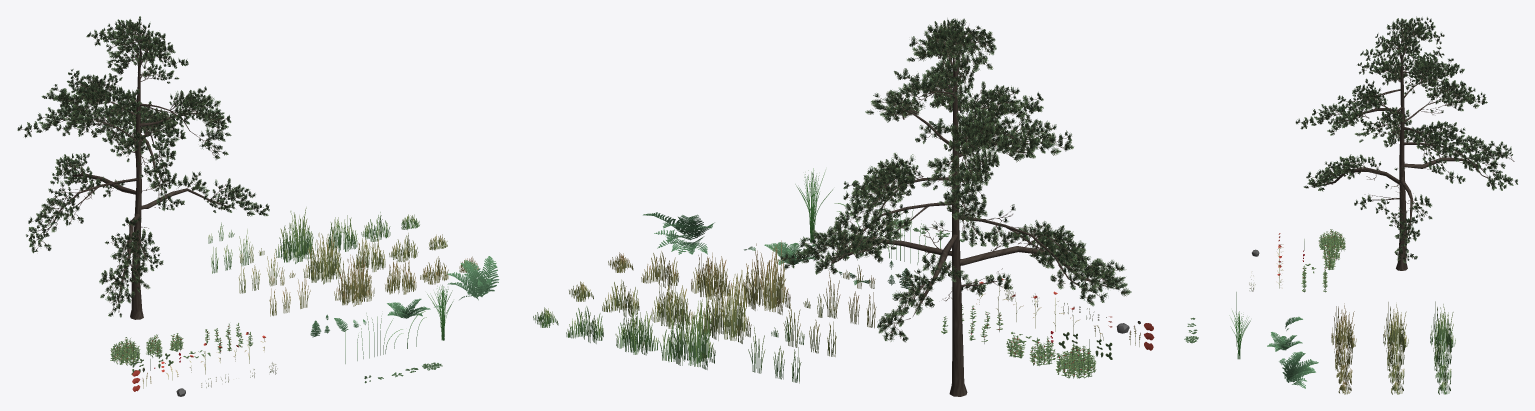
The model's file is plants_asset_set.glb.
3 renders of one model, left to right at view 1: azimuth 30°, elevation 25°; view 2: azimuth 150°, elevation 25°; view 3: azimuth 270°, elevation 25°, orthographic. The views are drawn at different scales.
Parts seen in each view (by area): view 1: Object_2, Object_3, Object_11, Object_5, Object_6, Object_7, Object_16, Object_12, Object_17, Object_8; view 2: Object_2, Object_11, Object_6, Object_5, Object_3, Object_7, Object_16, Object_17, Object_12, Object_8; view 3: Object_2, Object_3, Object_5, Object_11, Object_6, Object_7, Object_16, Object_17, Object_12.
Part boxes in pixels (<box>): Object_2: <box>17,16,269,317</box>; Object_3: <box>41,39,235,319</box>; Object_11: <box>208,207,419,273</box>; Object_5: <box>238,227,447,293</box>; Object_6: <box>269,250,478,316</box>; Object_7: <box>310,256,499,337</box>; Object_16: <box>110,323,252,365</box>; Object_12: <box>345,285,453,363</box>; Object_17: <box>111,323,252,374</box>; Object_8: <box>132,332,265,391</box>; Object_2: <box>780,18,1131,342</box>; Object_11: <box>533,295,804,383</box>; Object_6: <box>608,240,876,328</box>; Object_5: <box>569,270,836,356</box>; Object_3: <box>830,26,1109,396</box>; Object_7: <box>643,212,911,288</box>; Object_16: <box>941,305,1096,378</box>; Object_17: <box>943,305,1112,378</box>; Object_12: <box>795,168,940,264</box>; Object_8: <box>976,278,1154,350</box>; Object_2: <box>1295,16,1517,263</box>; Object_3: <box>1321,29,1488,270</box>; Object_5: <box>1383,302,1408,394</box>; Object_11: <box>1430,301,1455,394</box>; Object_6: <box>1331,303,1356,394</box>; Object_7: <box>1267,316,1318,388</box>; Object_16: <box>1301,229,1345,291</box>; Object_17: <box>1302,230,1345,288</box>; Object_12: <box>1229,292,1250,359</box>.
Size of the model in its own units: 504 by 342 by 410.
Materials: 12 (11 with a texture image).
